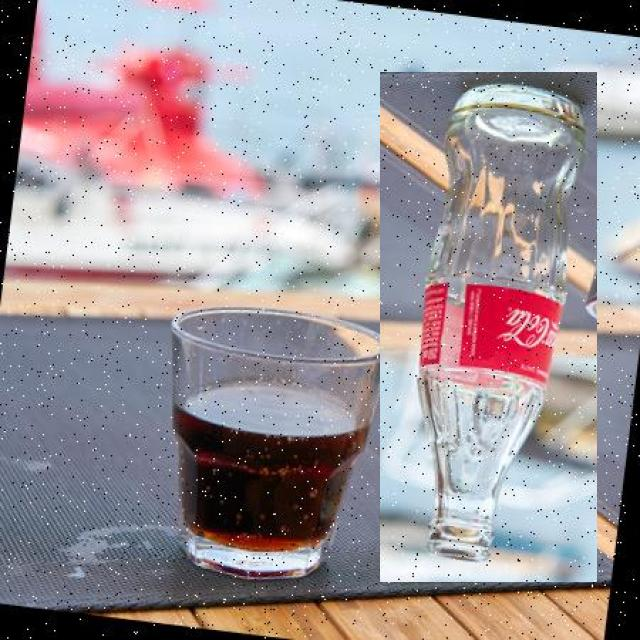coca-cola: (380, 72, 597, 582)
